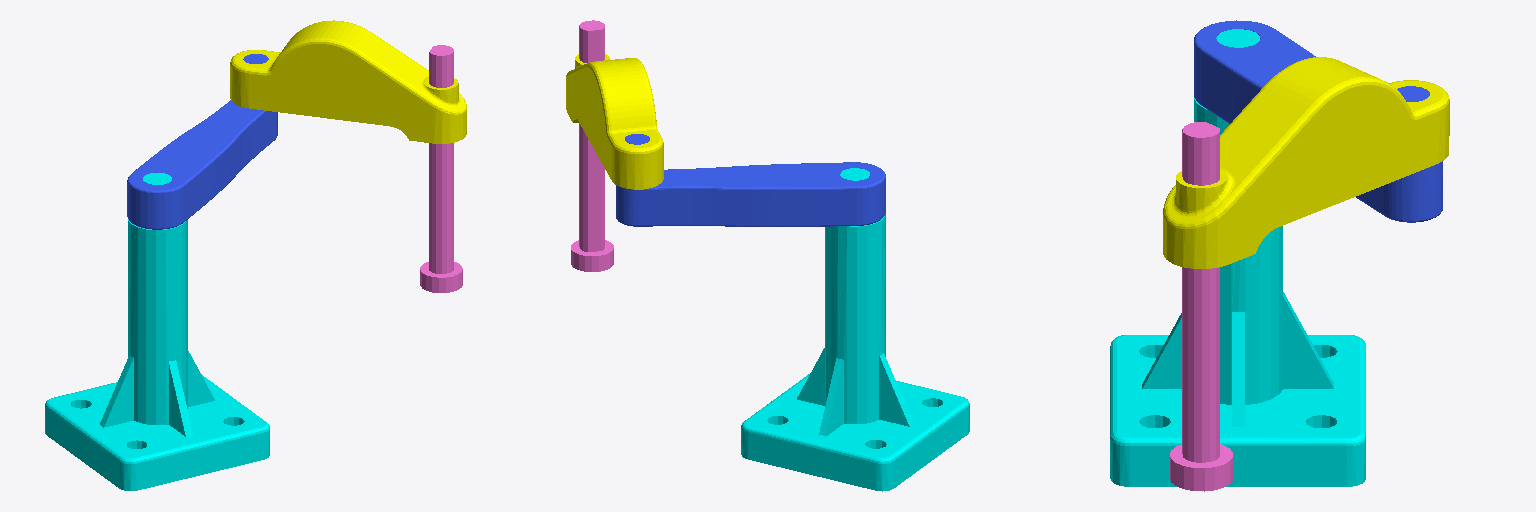
URDF robot description (robot_scara):
<?xml version="1.0" encoding="utf-8"?>
<!-- This URDF was automatically created by SolidWorks to URDF Exporter! Originally created by [author] ([email redacted]) 
     Commit Version: 1.6.0-1-g15f4949  Build Version: 1.6.7594.29634
     For more information, please see http://wiki.ros.org/sw_urdf_exporter -->
<robot
  name="robot_scara">
  <link
    name="base_link">
    <inertial>
      <origin
        xyz="-1.2267E-15 -8.8518E-17 0.08122"
        rpy="0 0 0" />
      <mass
        value="20.674" />
      <inertia
        ixx="0.81865"
        ixy="2.453E-17"
        ixz="-1.5176E-15"
        iyy="0.81865"
        iyz="-1.5583E-16"
        izz="0.33768" />
    </inertial>
    <visual>
      <origin
        xyz="0 0 0"
        rpy="0 0 0" />
      <geometry>
        <mesh
          filename="package://robot_scara/meshes/base_link.STL" />
      </geometry>
      <material
        name="">
        <color
          rgba="0 1 1 1" />
      </material>
    </visual>
    <collision>
      <origin
        xyz="0 0 0"
        rpy="0 0 0" />
      <geometry>
        <mesh
          filename="package://robot_scara/meshes/base_link.STL" />
      </geometry>
    </collision>
  </link>
  <link
    name="link_1">
    <inertial>
      <origin
        xyz="0.24287 1.7832E-08 0.063836"
        rpy="0 0 0" />
      <mass
        value="55.084" />
      <inertia
        ixx="0.13635"
        ixy="-5.3485E-06"
        ixz="-0.055982"
        iyy="1.6655"
        iyz="-4.0985E-07"
        izz="1.6686" />
    </inertial>
    <visual>
      <origin
        xyz="0 0 0"
        rpy="0 0 0" />
      <geometry>
        <mesh
          filename="package://robot_scara/meshes/link_1.STL" />
      </geometry>
      <material
        name="">
        <color
          rgba="0.27843 0.42745 1 1" />
      </material>
    </visual>
    <collision>
      <origin
        xyz="0 0 0"
        rpy="0 0 0" />
      <geometry>
        <mesh
          filename="package://robot_scara/meshes/link_1.STL" />
      </geometry>
    </collision>
  </link>
  <joint
    name="joint_1"
    type="revolute">
    <origin
      xyz="0 0 0.49012"
      rpy="0 0 0.57061" />
    <parent
      link="base_link" />
    <child
      link="link_1" />
    <axis
      xyz="0 0 1" />
    <limit
      lower="-3.142"
      upper="3.142"
      effort="200"
      velocity="10" />
  </joint>
  <link
    name="link_2">
    <inertial>
      <origin
        xyz="0.2228 4.2564E-07 0.10437"
        rpy="0 0 0" />
      <mass
        value="68.429" />
      <inertia
        ixx="0.27322"
        ixy="-7.6394E-06"
        ixz="0.08493"
        iyy="1.397"
        iyz="1.6153E-06"
        izz="1.2904" />
    </inertial>
    <visual>
      <origin
        xyz="0 0 0"
        rpy="0 0 0" />
      <geometry>
        <mesh
          filename="package://robot_scara/meshes/link_2.STL" />
      </geometry>
      <material
        name="">
        <color
          rgba="1 1 0 1" />
      </material>
    </visual>
    <collision>
      <origin
        xyz="0 0 0"
        rpy="0 0 0" />
      <geometry>
        <mesh
          filename="package://robot_scara/meshes/link_2.STL" />
      </geometry>
    </collision>
  </link>
  <joint
    name="joint_2"
    type="revolute">
    <origin
      xyz="0.5 0 0.079884"
      rpy="0 0 -1.3859" />
    <parent
      link="link_1" />
    <child
      link="link_2" />
    <axis
      xyz="0 0 1" />
    <limit
      lower="-3.142"
      upper="3.142"
      effort="200"
      velocity="10" />
  </joint>
  <link
    name="link_3">
    <inertial>
      <origin
        xyz="0.00086242 3.3307E-16 0.12155"
        rpy="0 0 0" />
      <mass
        value="13.036" />
      <inertia
        ixx="0.46124"
        ixy="1.3878E-17"
        ixz="0.00064441"
        iyy="0.46091"
        iyz="-1.0542E-15"
        izz="0.0080684" />
    </inertial>
    <visual>
      <origin
        xyz="0 0 0"
        rpy="0 0 0" />
      <geometry>
        <mesh
          filename="package://robot_scara/meshes/link_3.STL" />
      </geometry>
      <material
        name="">
        <color
          rgba="1 0.49804 0.88627 1" />
      </material>
    </visual>
    <collision>
      <origin
        xyz="0 0 0"
        rpy="0 0 0" />
      <geometry>
        <mesh
          filename="package://robot_scara/meshes/link_3.STL" />
      </geometry>
    </collision>
  </link>
  <joint
    name="joint_3"
    type="prismatic">
    <origin
      xyz="0.45 0 0"
      rpy="3.1416 0 0" />
    <parent
      link="link_2" />
    <child
      link="link_3" />
    <axis
      xyz="0 0 -1" />
    <limit
      lower="-0.2"
      upper="0.2"
      effort="200"
      velocity="3" />
  </joint>
</robot>

--- Facts derived from the render (not from the file) ---
Views: 3 orthographic renders of the robot side by side, from view 1: azimuth 30°, elevation 25°; view 2: azimuth 150°, elevation 25°; view 3: azimuth 270°, elevation 25°.
Model robot_scara with 4 links and 3 joints (2 revolute, 1 prismatic), rooted at base_link, posed every joint at zero.
Visible links, largest first — view 1: base_link, link_2, link_1, link_3; view 2: base_link, link_1, link_2, link_3; view 3: base_link, link_2, link_3, link_1.
Boxes of the visible links, x1=… form: base_link: x1=45, y1=173, x2=269, y2=490; link_2: x1=230, y1=20, x2=466, y2=143; link_1: x1=127, y1=54, x2=277, y2=229; link_3: x1=420, y1=45, x2=462, y2=292; base_link: x1=741, y1=168, x2=969, y2=491; link_1: x1=616, y1=134, x2=885, y2=226; link_2: x1=566, y1=54, x2=663, y2=189; link_3: x1=571, y1=20, x2=613, y2=271; base_link: x1=1110, y1=29, x2=1365, y2=486; link_2: x1=1163, y1=57, x2=1449, y2=268; link_3: x1=1170, y1=122, x2=1232, y2=491; link_1: x1=1194, y1=20, x2=1442, y2=222.
Size in the robot's own frame: 0.9888 by 0.53 by 0.88 metres.
Meshes: 4 distinct files referenced, 4 mesh visuals loaded (4 binary STL).